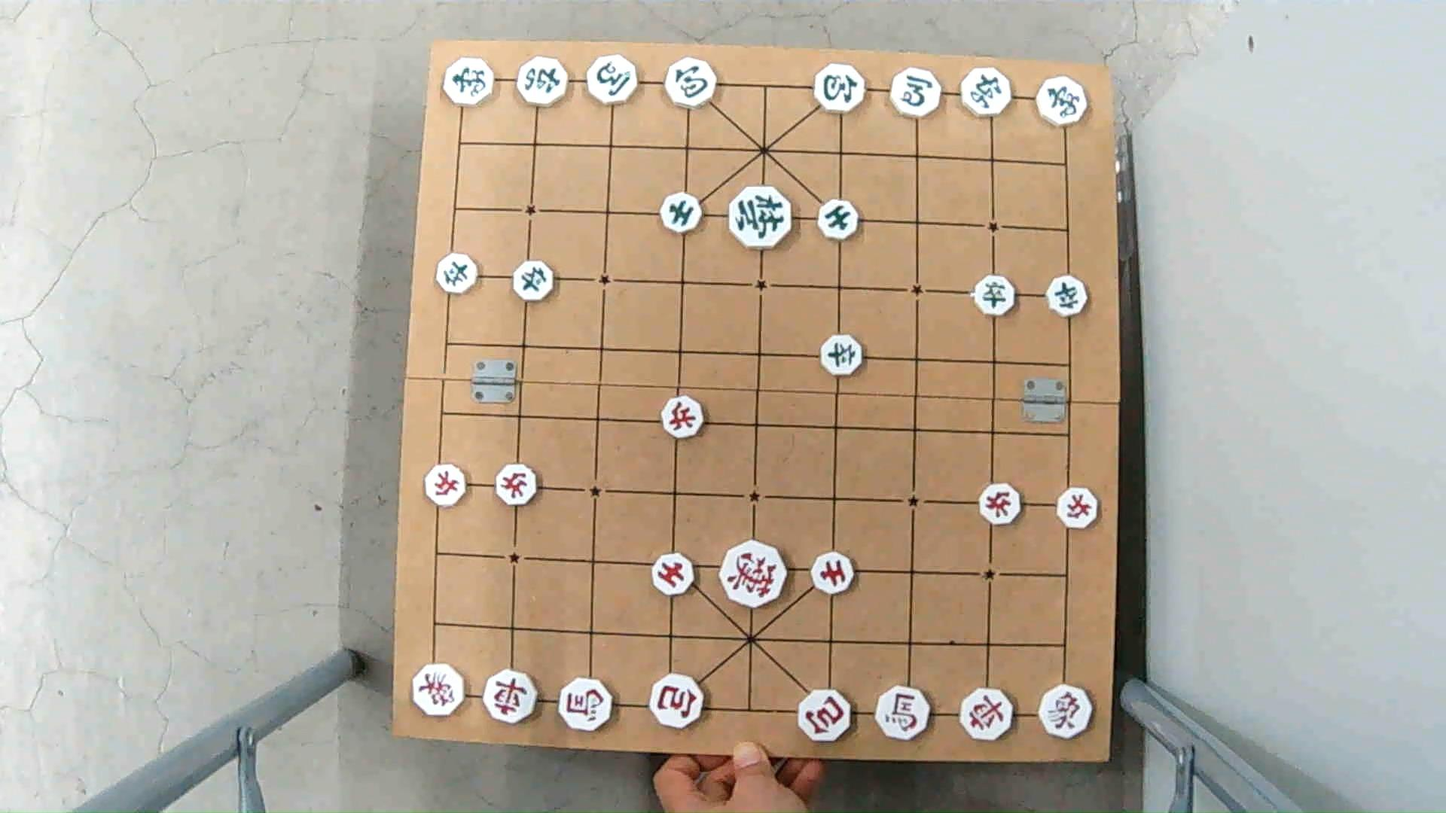cha_green: (512, 58, 575, 105), (959, 71, 1014, 117)
cha_red: (957, 691, 1017, 740), (484, 674, 542, 724)
jol_green: (511, 259, 559, 302), (816, 336, 865, 376), (434, 254, 481, 294), (972, 275, 1018, 312), (1045, 278, 1091, 314)
jol_red: (657, 394, 708, 440), (492, 461, 540, 509), (420, 465, 469, 503), (974, 487, 1024, 524), (1060, 486, 1100, 527)
ma_green: (890, 66, 948, 116), (587, 56, 645, 101)
ma_red: (872, 688, 934, 735), (558, 681, 615, 731)
po_green: (810, 64, 868, 111), (664, 59, 721, 106)
po_red: (648, 674, 707, 726), (797, 690, 853, 739)
sa_green: (814, 199, 863, 239), (660, 190, 704, 233)
sa_red: (648, 549, 695, 595), (813, 553, 859, 597)
sang_green: (442, 57, 497, 107), (1040, 78, 1092, 125)
sang_red: (1036, 687, 1097, 737), (413, 665, 471, 714)
wang_green: (725, 190, 793, 246)
wang_red: (718, 543, 791, 605)
